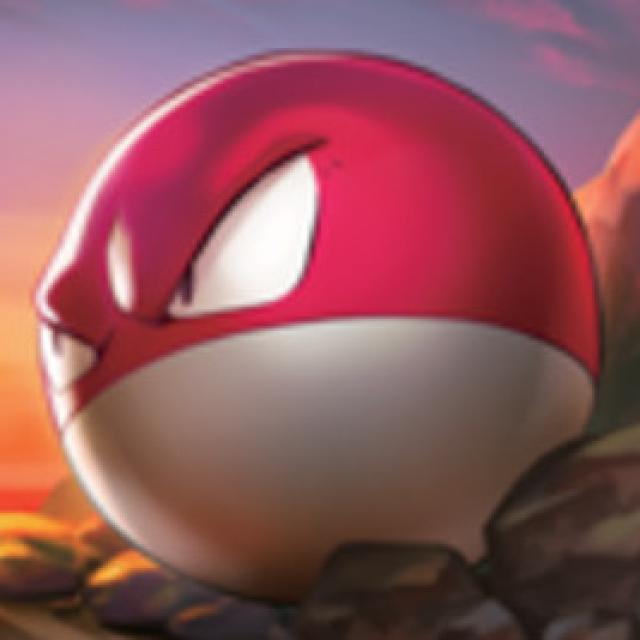Voltorb: (27, 29, 609, 591)
